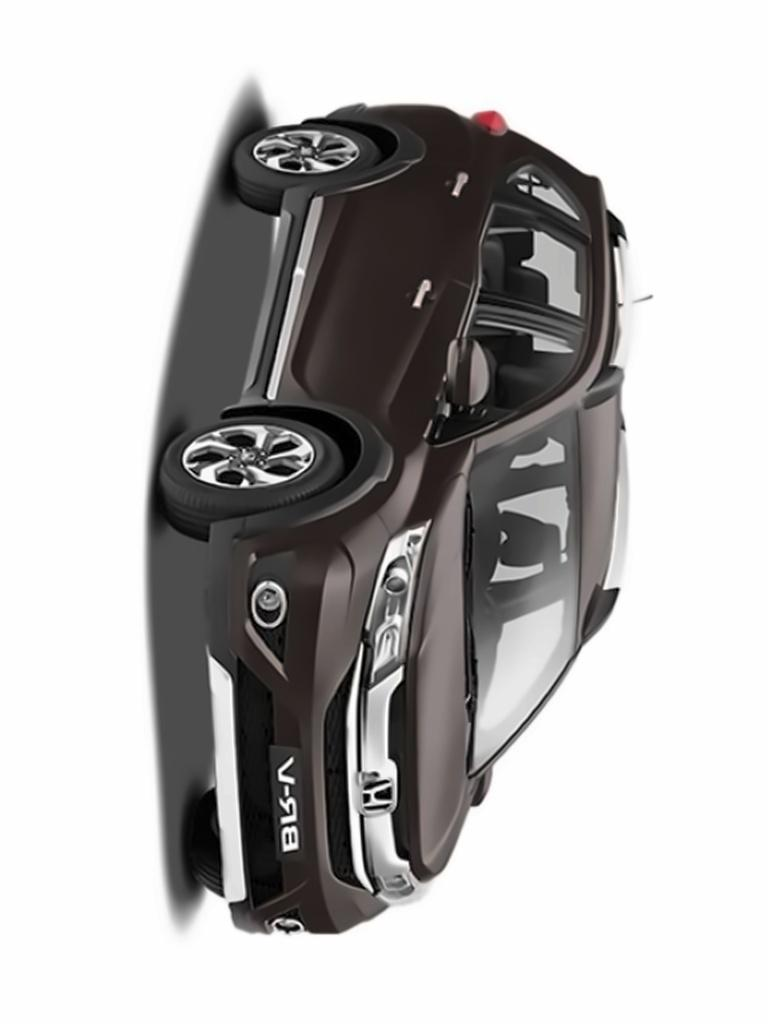Car hood: (392, 470, 481, 894)
Driver-s door - -F-R-: (292, 265, 611, 420)
Fender - -F-R-: (237, 394, 483, 536)
Fender - -R-R-: (390, 119, 513, 167)
Front bumper: (199, 522, 378, 947)
Headlight - -L-: (364, 859, 429, 915)
Headlight - -R-: (359, 512, 437, 694)
Passenger-s door - -R-R-: (300, 164, 610, 264)
Rear bumper: (305, 89, 416, 147)
Rear light - -R-: (465, 100, 520, 146)
Side mirror - -R-: (439, 317, 501, 415)
